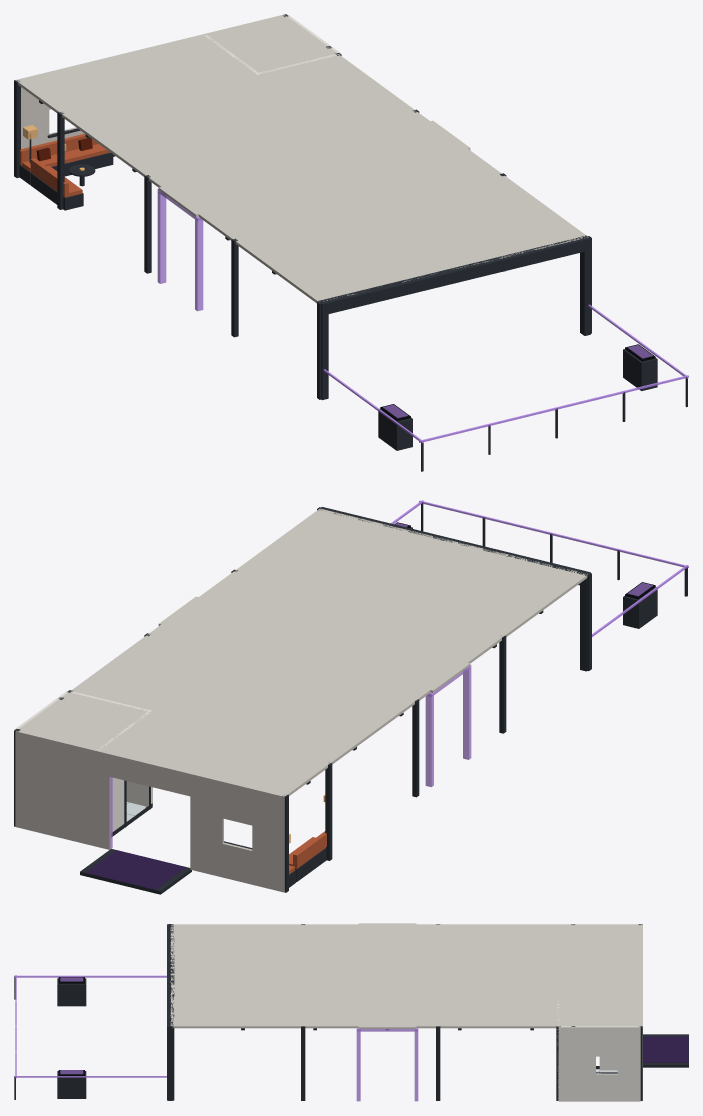
The model's file is skyfleet_bake3_03.glb.
The picture shows the model from 3 angles, top to bottom: view 1: azimuth 30°, elevation 25°; view 2: azimuth 150°, elevation 25°; view 3: azimuth 270°, elevation 25°; orthographic projection. The views are drawn at different scales.
Parts seen in each view (by area): view 1: baked; view 2: baked; view 3: baked.
Boxes of the visible parts, left/top/right/bottom form: baked: left=14, top=14, right=688, bottom=471; baked: left=14, top=500, right=688, bottom=894; baked: left=14, top=923, right=688, bottom=1101.
Size of the model in its own units: 10.2 by 3.52 by 28.01.
